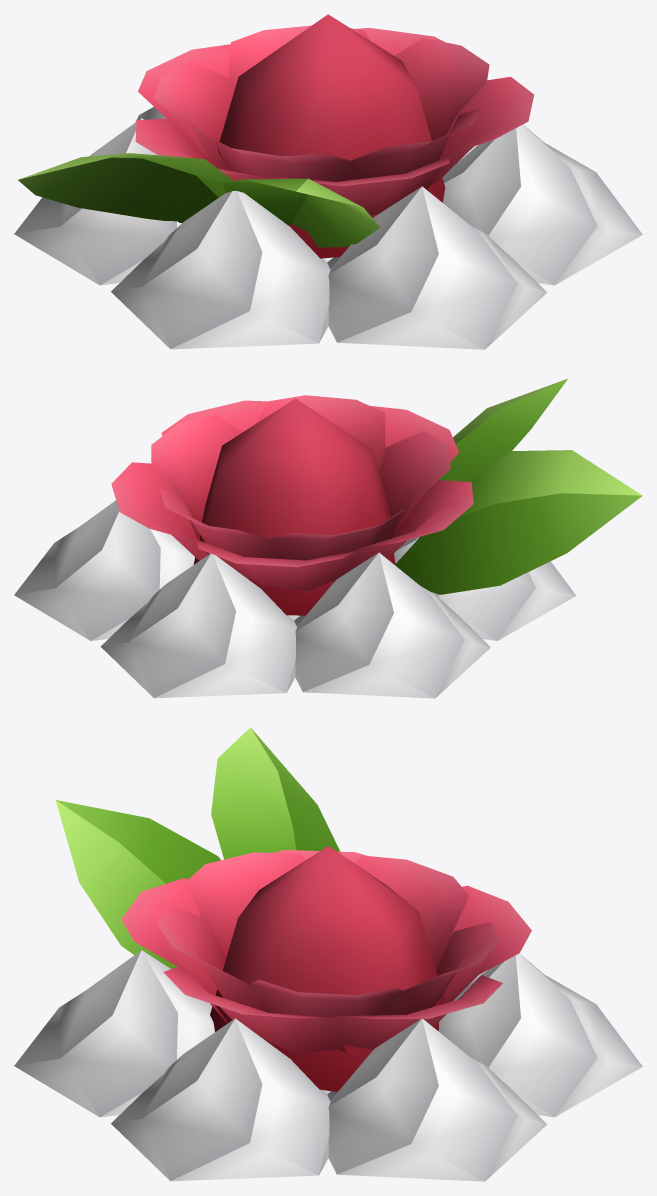
File: m_Cake03_Deco.fbx
The picture shows the model from 3 angles, top to bottom: view 1: azimuth 30°, elevation 25°; view 2: azimuth 150°, elevation 25°; view 3: azimuth 270°, elevation 25°; orthographic projection. The views are drawn at different scales.
Parts seen in each view (by area): view 1: m_Cake03_Deco; view 2: m_Cake03_Deco; view 3: m_Cake03_Deco.
Boxes of the visible parts, x1,y1,x2,y2 form: m_Cake03_Deco: (14, 14, 642, 349); m_Cake03_Deco: (14, 378, 642, 698); m_Cake03_Deco: (14, 727, 642, 1181).
Bounding box in the file's own units: 11.7 × 4.2 × 10.87.
